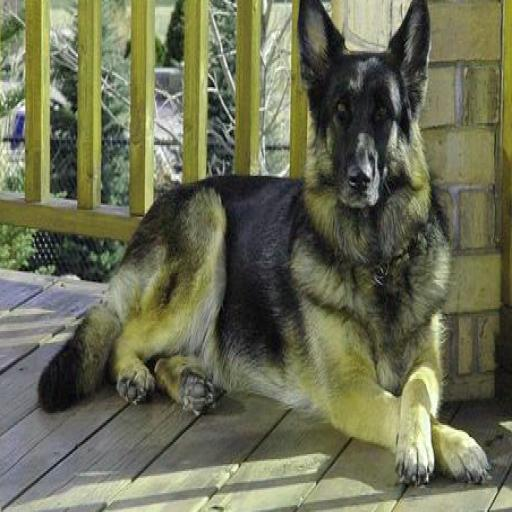dog_face: (294, 0, 430, 205)
